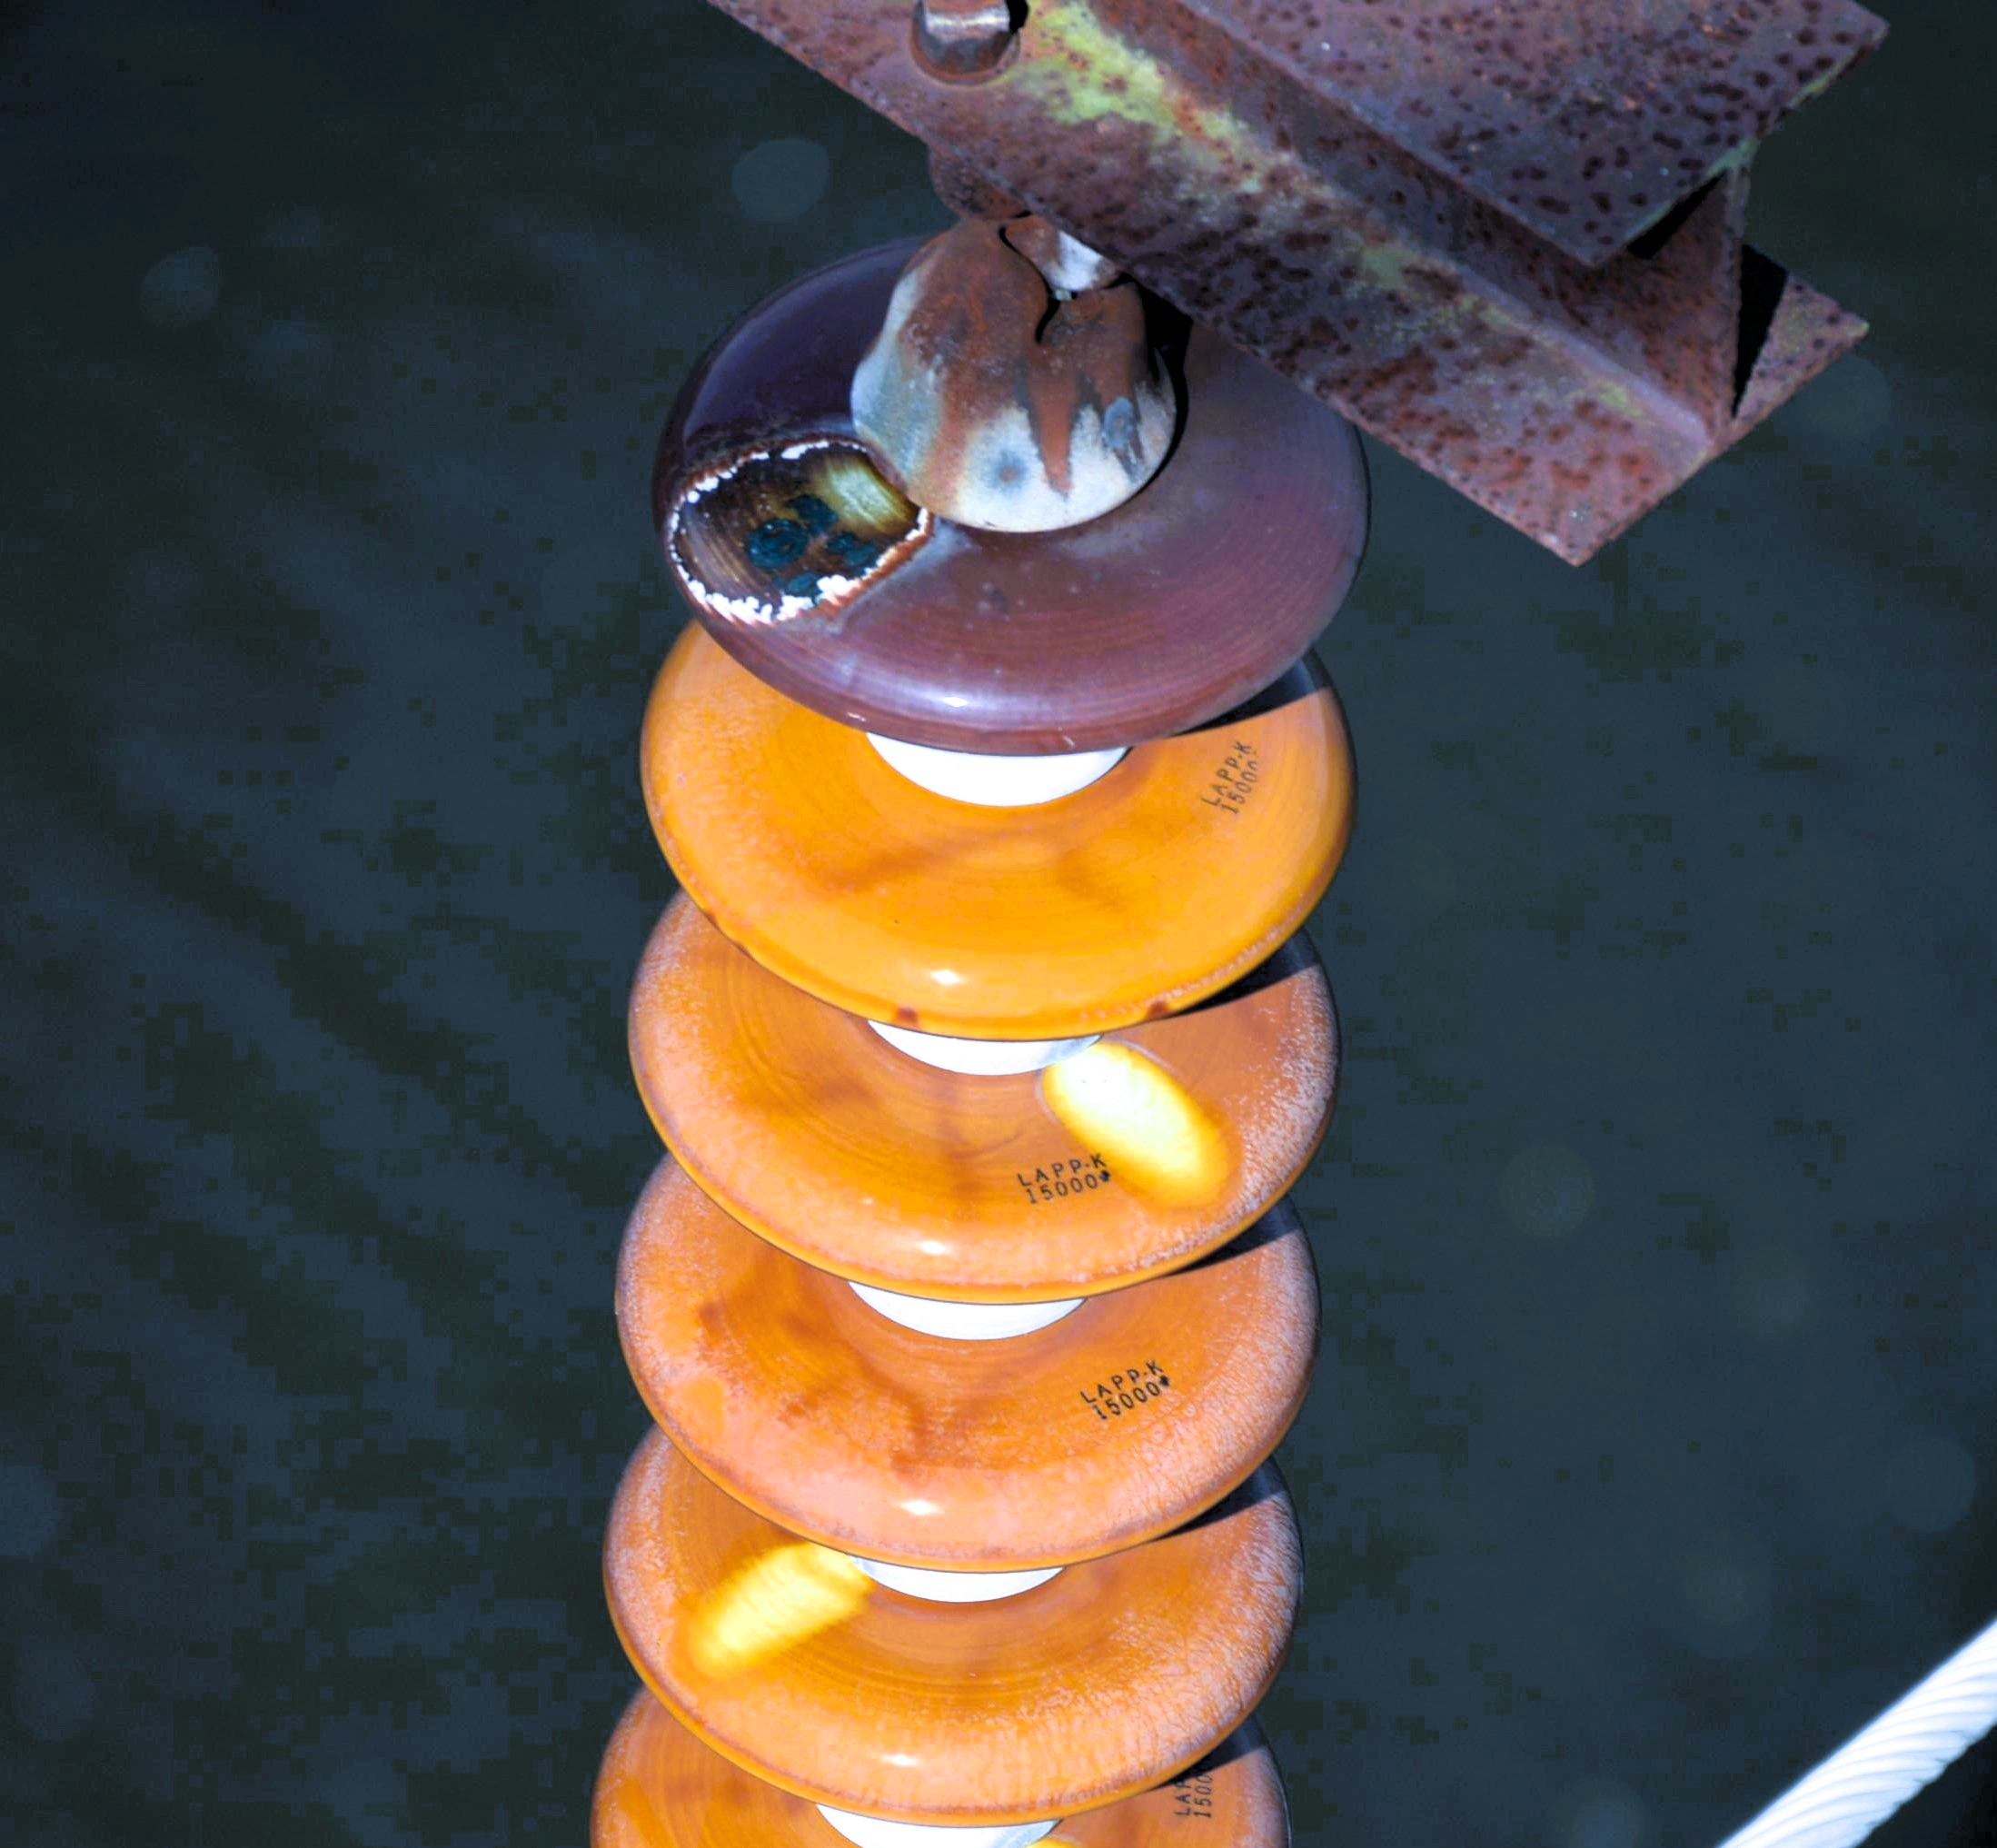Insulator flashover: (633, 240, 1385, 771)
